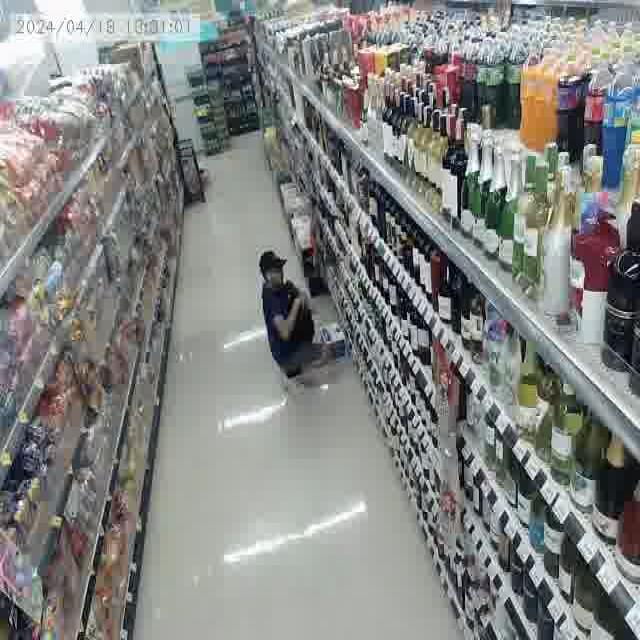shoplifting: (252, 238, 337, 408)
